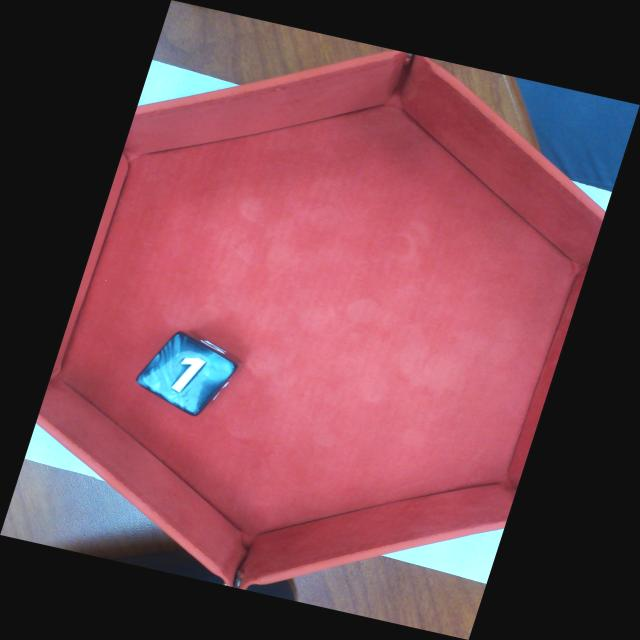dice: (131, 328, 240, 419)
